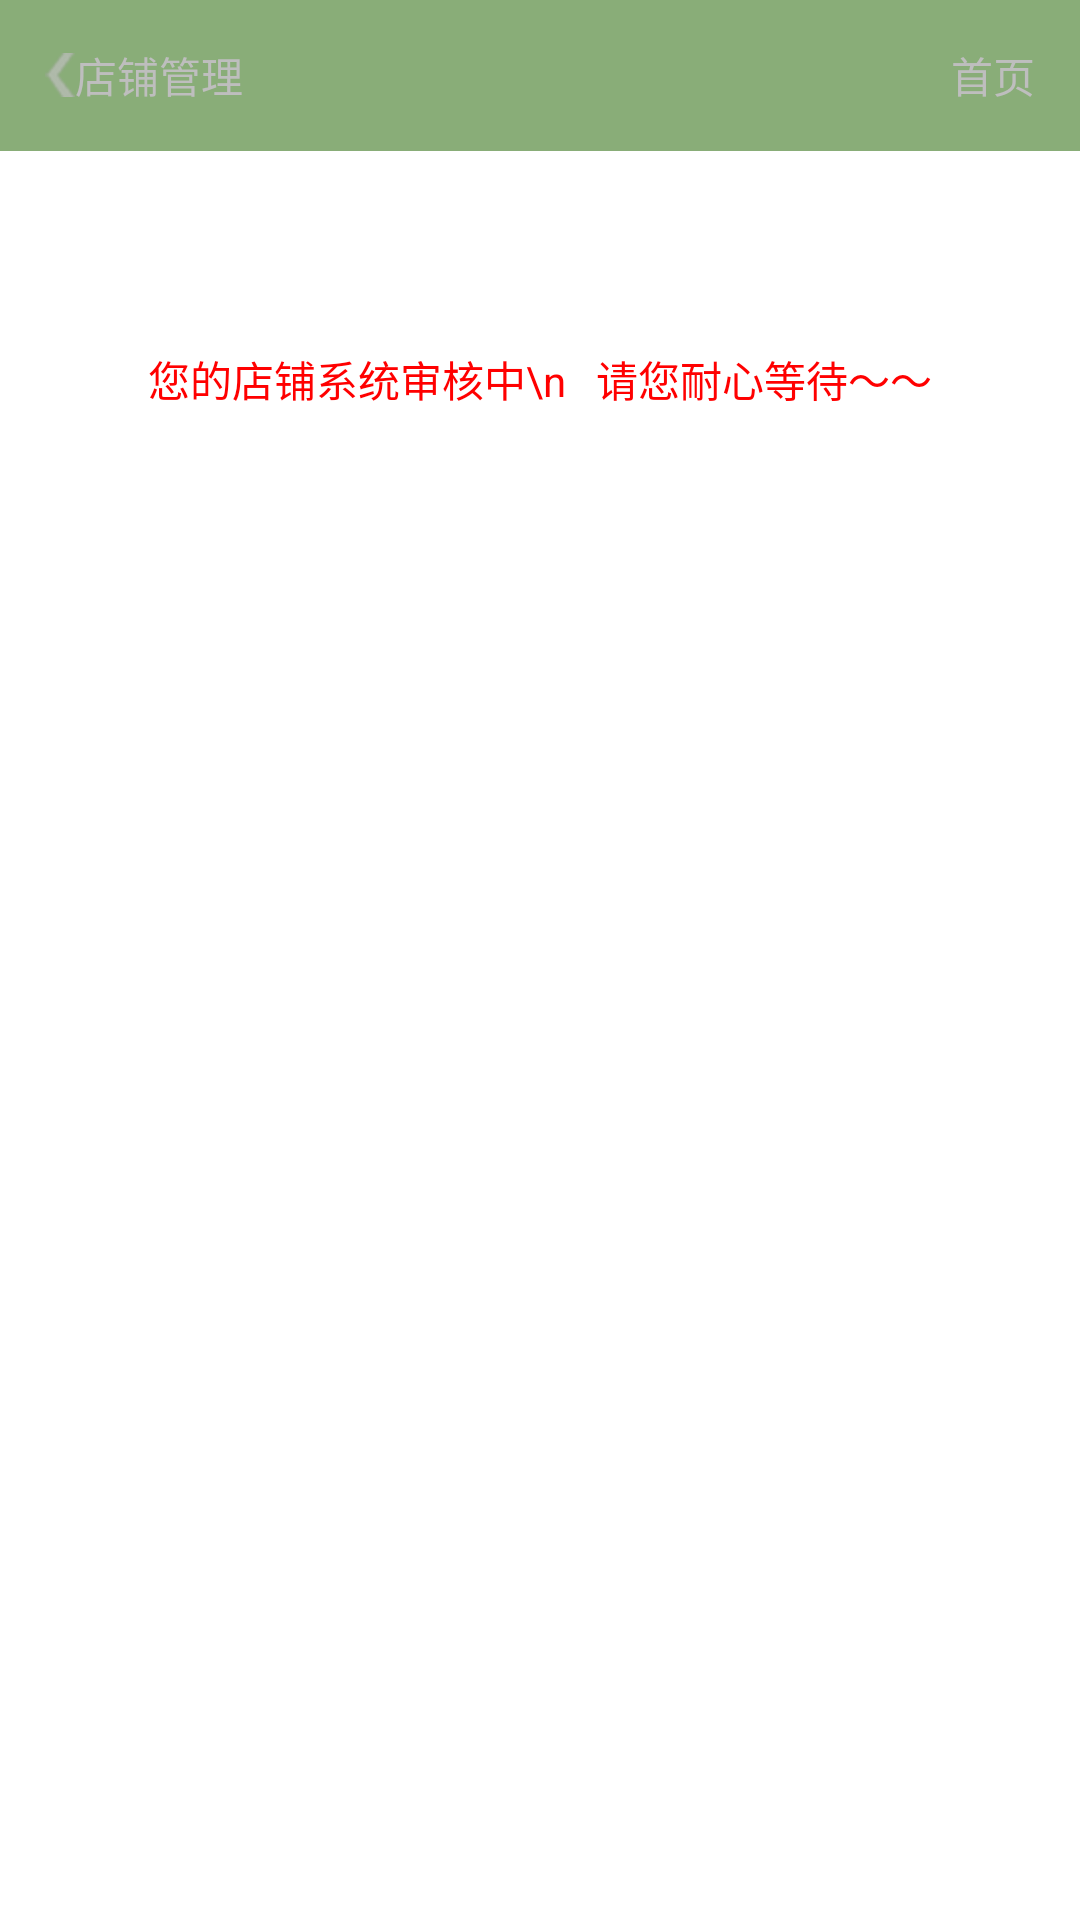

Icon click points for this 1080px x 1920px phone screenshot, format (x,y):
arrow left: (60,75)
